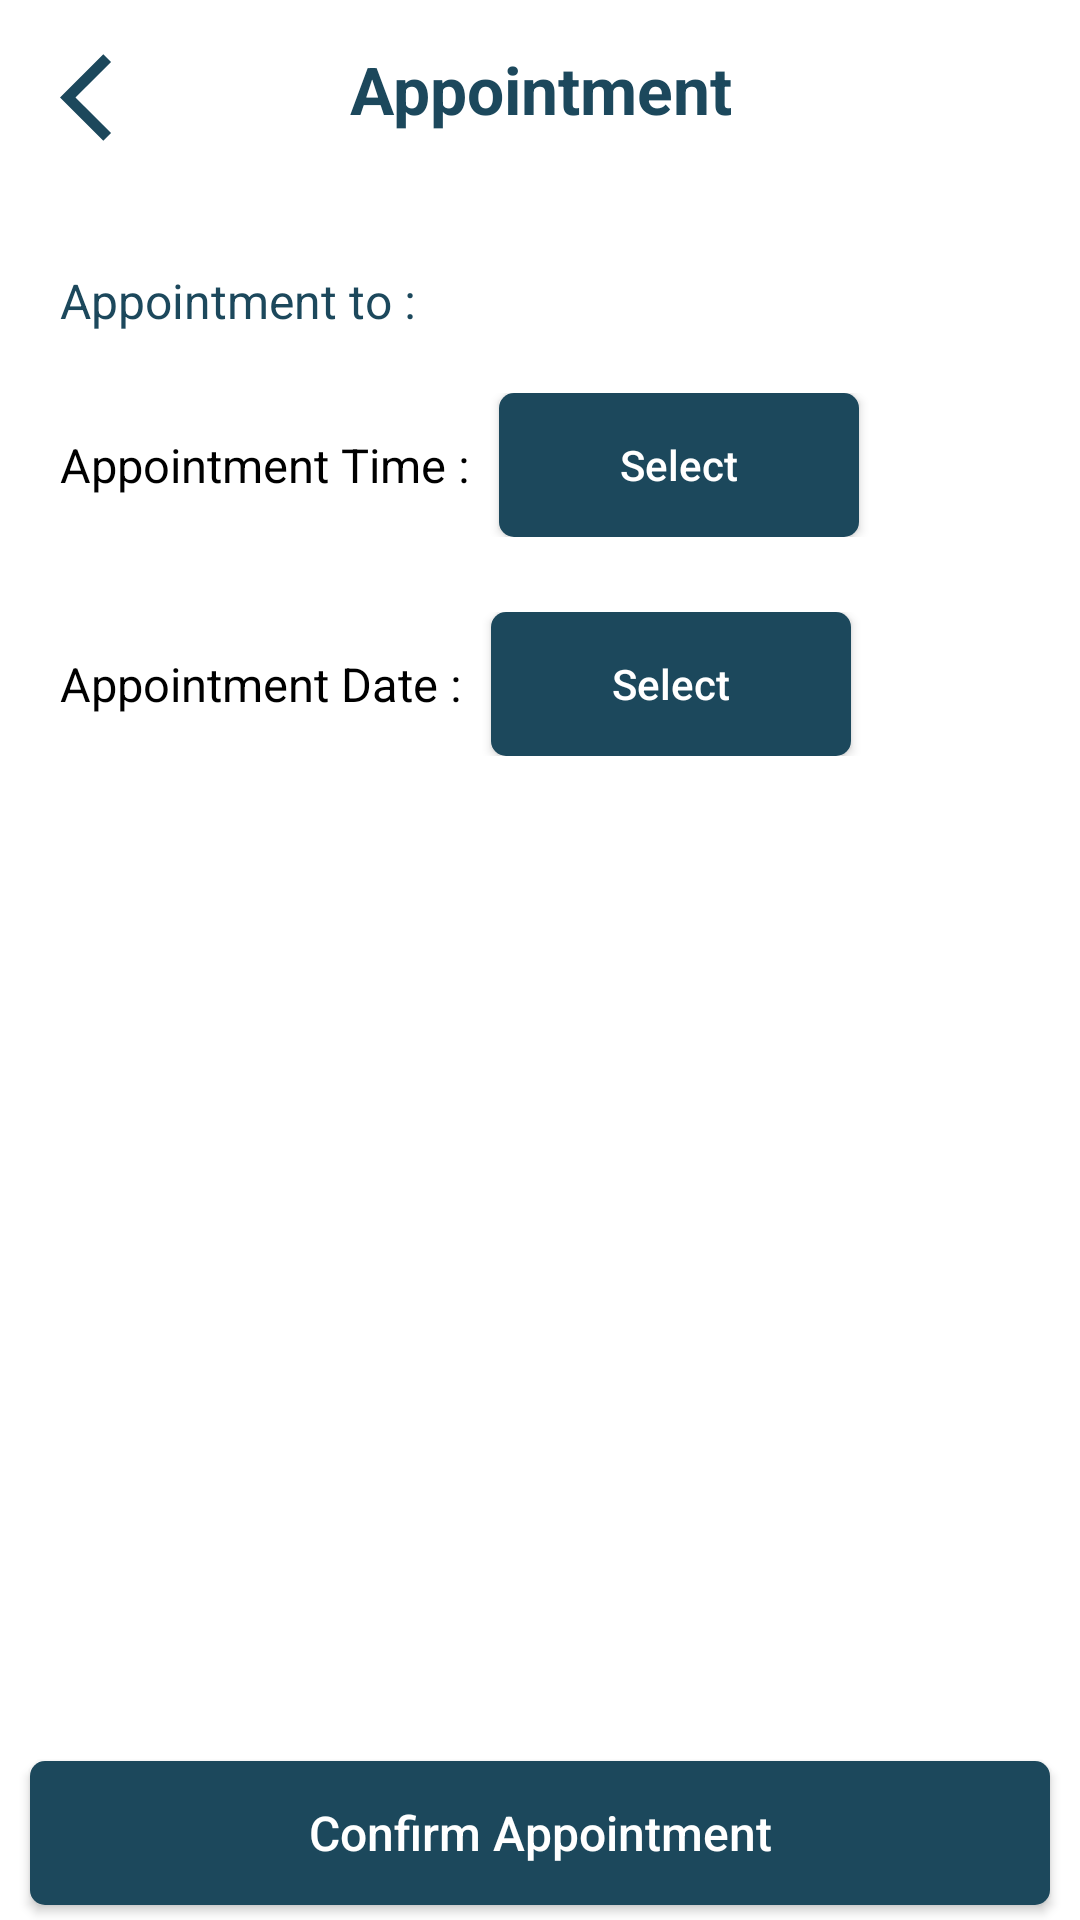

Point at icon controls on the screen. Image size 1080*1920, points as point (x, y).
back: point (85, 97)
